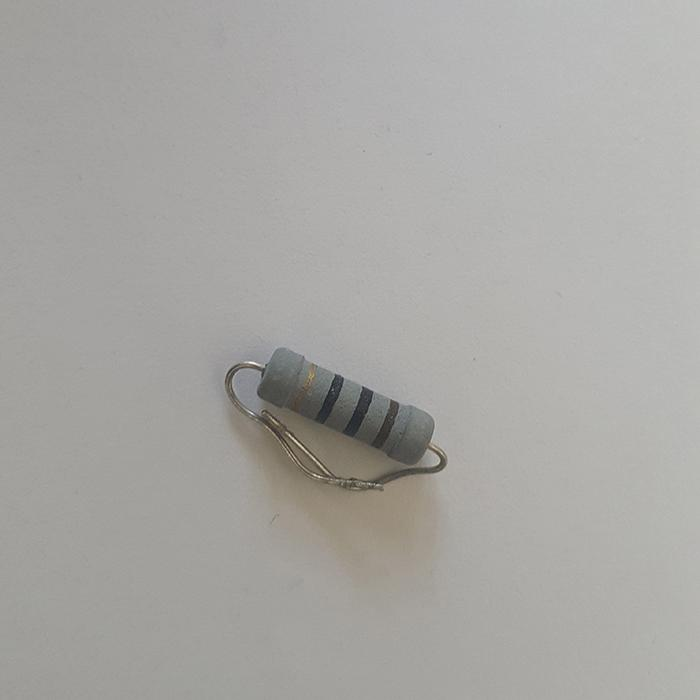resistor: (256, 343, 433, 470)
